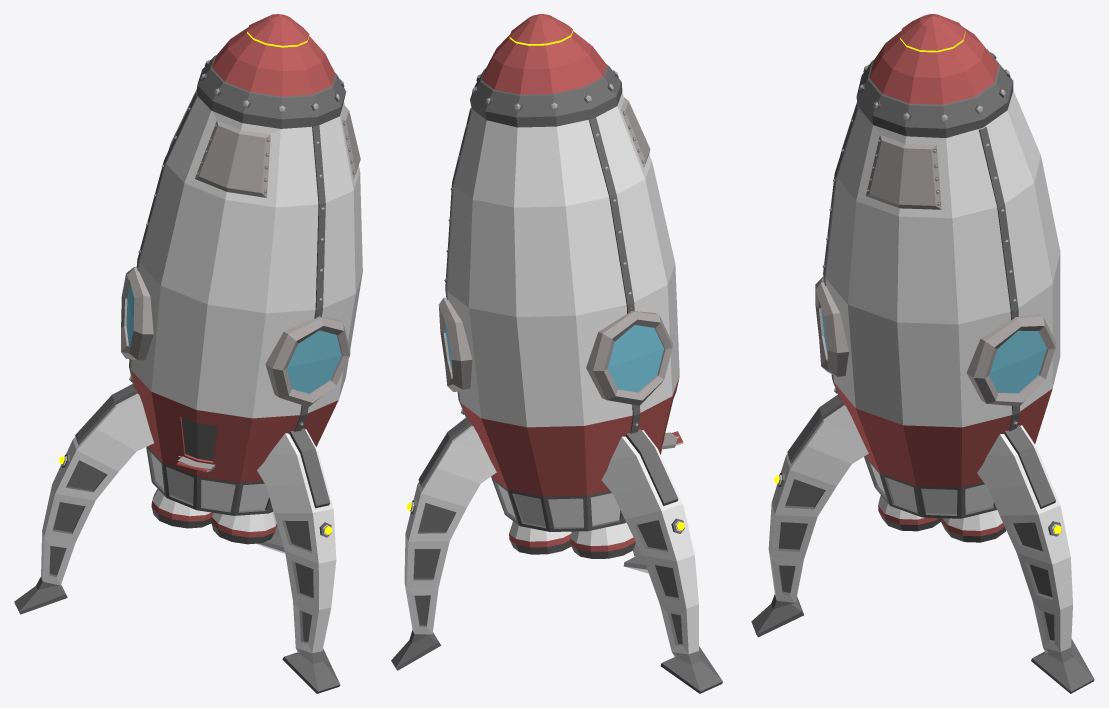
File: ship.glb
3 views of the same model, side by side, from view 1: azimuth 30°, elevation 25°; view 2: azimuth 150°, elevation 25°; view 3: azimuth 270°, elevation 25° (orthographic). The views are drawn at different scales.
Parts seen in each view (by area): view 1: planet.004; view 2: planet.004; view 3: planet.004.
Part boxes in pixels (left/top/right/bottom): planet.004: left=14, top=14, right=362, bottom=693; planet.004: left=391, top=14, right=722, bottom=693; planet.004: left=751, top=14, right=1094, bottom=693.
Bounding box in the file's own units: 4.72 × 9.15 × 4.46.
Materials: 1 (1 with a texture image).
